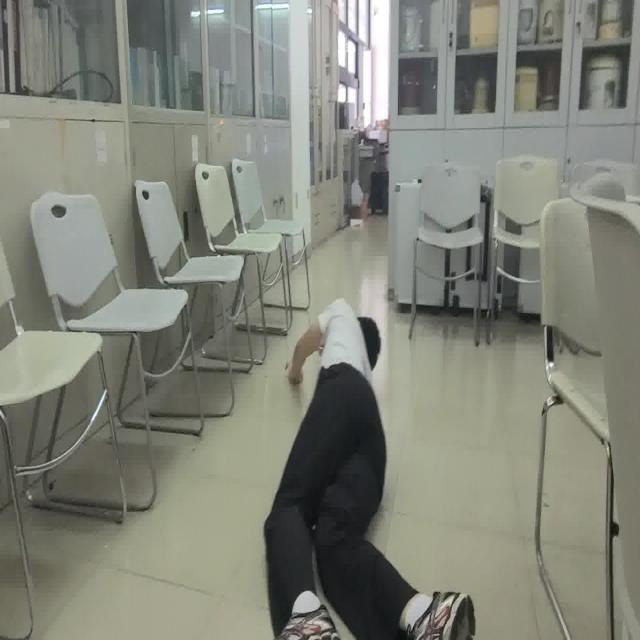Fall-Detected: (258, 294, 478, 640)
